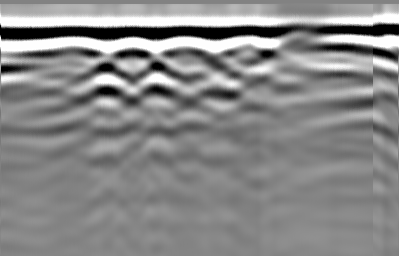pipe: (276, 22, 326, 45)
steel: (82, 52, 128, 76), (136, 53, 178, 76)
